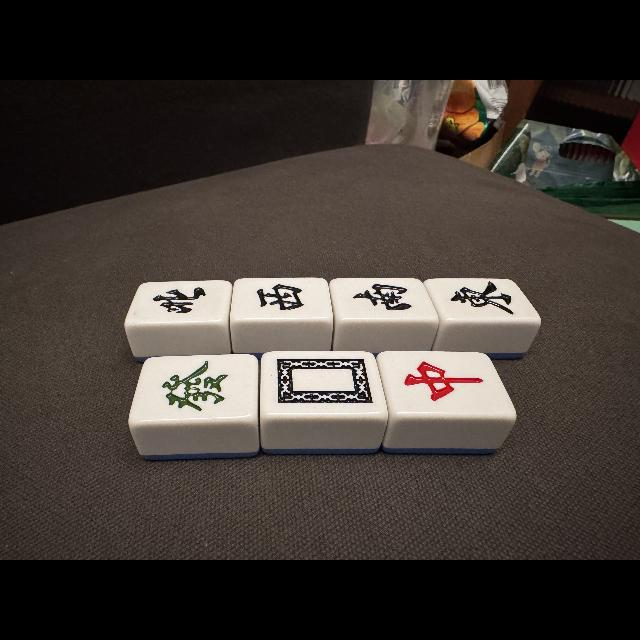dg: (138, 357, 252, 421)
dr: (387, 352, 499, 413)
dw: (266, 353, 378, 413)
we: (434, 278, 528, 320)
wn: (135, 280, 227, 320)
ws: (338, 278, 430, 320)
ww: (236, 277, 326, 319)
